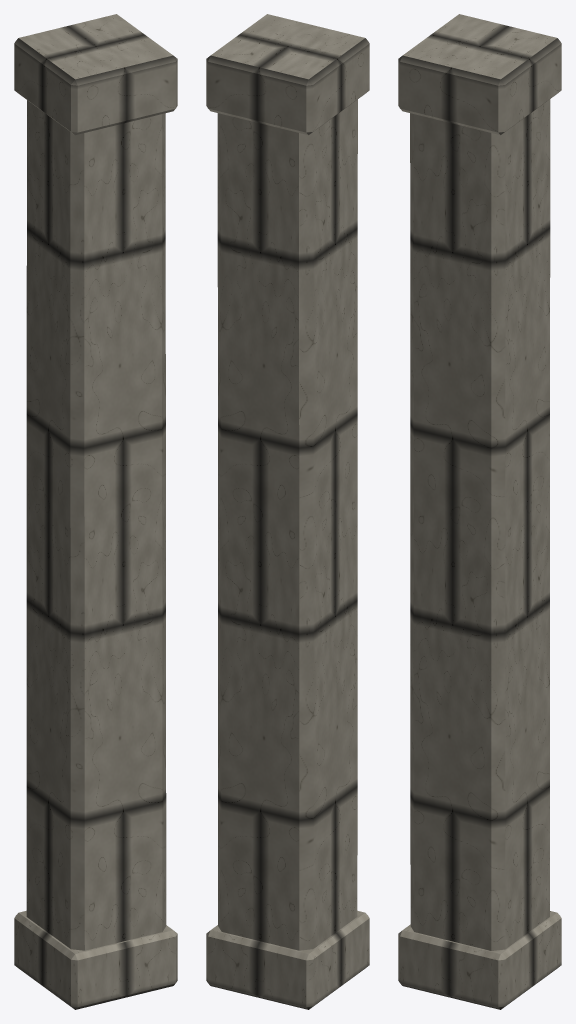
The model's file is post_marble.glb.
3 renders of one model, left to right at view 1: azimuth 30°, elevation 25°; view 2: azimuth 150°, elevation 25°; view 3: azimuth 330°, elevation 25°, orthographic.
Parts seen in each view (by area): view 1: post_marble; view 2: post_marble; view 3: post_marble.
Part boxes in pixels (x1,y1,x2,y2): post_marble: (14, 14, 177, 1009); post_marble: (206, 14, 369, 1009); post_marble: (398, 14, 561, 1009).
Bounding box in the file's own units: 0.3 × 2.5 × 0.3.
Materials: 1 (1 with a texture image).
